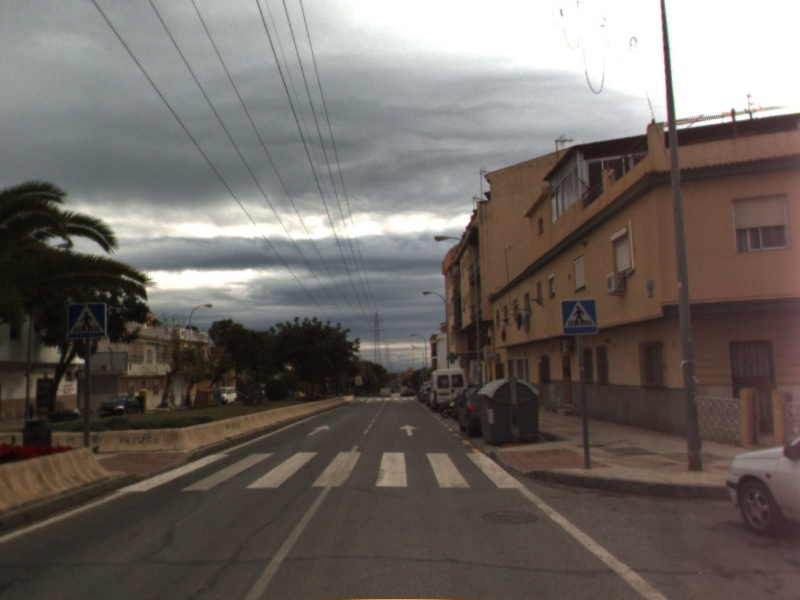STRAIGHT: (305, 422, 334, 438), (398, 423, 420, 438)
